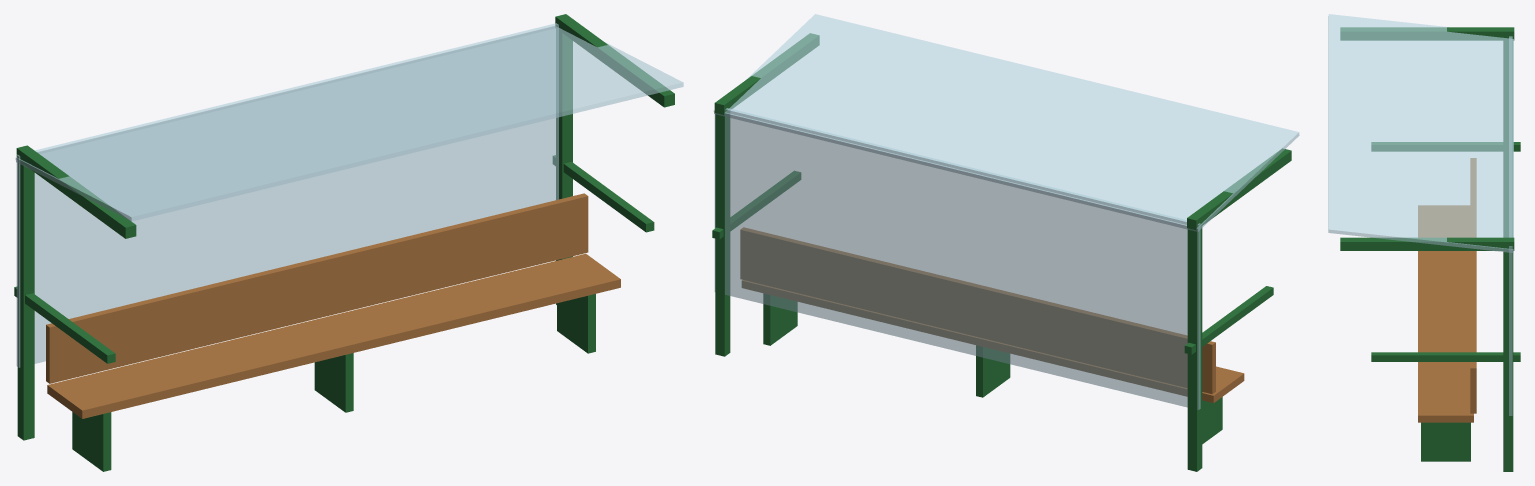
Rendered from team_bench.glb.
The picture shows the model from 3 angles, left to right: view 1: azimuth 30°, elevation 25°; view 2: azimuth 150°, elevation 25°; view 3: azimuth 270°, elevation 25°; orthographic projection. The views are drawn at different scales.
Parts seen in each view (by area): view 1: roof_bench_roof, seat_bench_wood, frame_bench_frame, seat_bench_frame; view 2: roof_bench_roof, seat_bench_wood, frame_bench_frame, seat_bench_frame; view 3: roof_bench_roof, frame_bench_frame, seat_bench_wood, seat_bench_frame.
Part boxes in pixels (box(x1,y1,x2,y2)): roof_bench_roof: box(15, 23, 683, 367); seat_bench_wood: box(46, 193, 620, 418); frame_bench_frame: box(14, 14, 674, 440); seat_bench_frame: box(72, 294, 595, 471); roof_bench_roof: box(714, 14, 1299, 409); seat_bench_wood: box(740, 227, 1244, 403); frame_bench_frame: box(712, 33, 1291, 471); seat_bench_frame: box(763, 293, 1222, 444); roof_bench_roof: box(1328, 14, 1513, 415); frame_bench_frame: box(1340, 27, 1520, 471); seat_bench_wood: box(1418, 158, 1476, 422); seat_bench_frame: box(1421, 422, 1470, 461).
Size of the model in its own units: 4.1 by 2.16 by 1.55.
